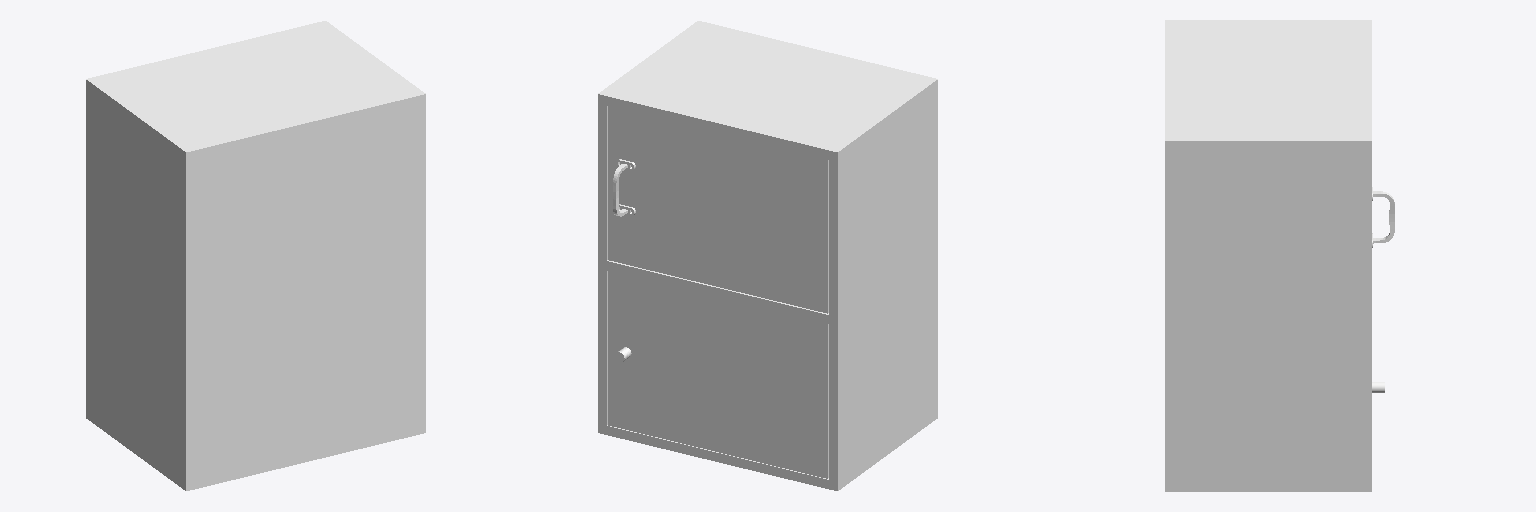
robot.urdf — Cabinet1:
<?xml version="1.0" encoding="utf-8"?>
<!-- This URDF was automatically created by SolidWorks to URDF Exporter! Originally created by [author] ([email redacted]) 
     Commit Version: 1.6.0-1-g15f4949  Build Version: 1.6.7594.29634
     For more information, please see http://wiki.ros.org/sw_urdf_exporter -->
<robot
  name="Cabinet1">
  <link
    name="base_link">
    <inertial>
      <origin
        xyz="0.19984 0.14241 0.27"
        rpy="0 0 0" />
      <mass
        value="9.7194" />
      <inertia
        ixx="0.41108"
        ixy="0.00022465"
        ixz="-1.1289E-16"
        iyy="0.57199"
        iyz="8.3269E-18"
        izz="0.30233" />
    </inertial>
    <visual>
      <origin
        xyz="0 0 0"
        rpy="0 0 0" />
      <geometry>
        <mesh
          filename="meshes/Link1.STL" />
      </geometry>
      <material
        name="">
        <color
          rgba="1 1 1 1" />
      </material>
    </visual>
    <collision>
      <origin
        xyz="0 0 0"
        rpy="0 0 0" />
      <geometry>
        <mesh
          filename="meshes/Link1.STL" />
      </geometry>
    </collision>
  </link>
  <link
    name="Link2">
    <inertial>
      <origin
        xyz="0.18409 0.0075 0.12375"
        rpy="0 0 0" />
      <mass
        value="1.3576" />
      <inertia
        ixx="0.0069558"
        ixy="-8.1315E-19"
        ixz="-6.8621E-19"
        iyy="0.022089"
        iyz="5.11E-21"
        izz="0.015185" />
    </inertial>
    <visual name = "door-1">
      <origin
        xyz="0 0 0"
        rpy="0 0 0" />
      <geometry>
        <mesh
          filename="meshes/Link2.STL" />
      </geometry>
      <material
        name="">
        <color
          rgba="1 1 1 1" />
      </material>
    </visual>
    <visual name = "handle-1">
      <origin
        xyz="0.335 0.015 0.12375"
        rpy="0 0 0" />
      <geometry>
        <mesh
          filename="meshes/Link5.STL" />
      </geometry>
      <material
        name="">
        <color
          rgba="1 1 1 1" />
      </material>
    </visual>
    <collision>
      <origin
        xyz="0 0 0"
        rpy="0 0 0" />
      <geometry>
        <mesh
          filename="meshes/Link2.STL" />
      </geometry>
    </collision>
    <collision>
      <origin
        xyz="0.335 0.015 0.12375"
        rpy="0 0 0" />
      <geometry>
        <mesh
          filename="meshes/Link5.STL" />
      </geometry>
    </collision>
  </link>
  <joint
    name="Joint1"
    type="revolute">
    <origin
      xyz="0.017889 0.27315 0.015"
      rpy="0 0 0" />
    <parent
      link="base_link" />
    <child
      link="Link2" />
    <axis
      xyz="0 0 -1" />
    <limit
      lower="-1.57"
      upper="0"
      effort="0"
      velocity="0" />
  </joint>
  <link
    name="Link3">
    <inertial>
      <origin
        xyz="0 0 0"
        rpy="0 0 0" />
      <mass
        value="0" />
      <inertia
        ixx="0"
        ixy="0"
        ixz="0"
        iyy="0"
        iyz="0"
        izz="0" />
    </inertial>
    <visual name = "door-2">
      <origin
        xyz="0 0 0"
        rpy="0 0 0" />
      <geometry>
        <mesh
          filename="meshes/Link3.STL" />
      </geometry>
      <material
        name="">
        <color
          rgba="1 1 1 1" />
      </material>
    </visual>
    <visual name = "handle-2">
      <origin
        xyz="0.335 0.015 0.12375"
        rpy="0 0 0" />
      <geometry>
        <mesh
          filename="meshes/Link4.STL" />
      </geometry>
      <material
        name="">
        <color
          rgba="1 1 1 1" />
      </material>
    </visual>
    <collision>
      <origin
        xyz="0 0 0"
        rpy="0 0 0" />
      <geometry>
        <mesh
          filename="meshes/Link3.STL" />
      </geometry>
    </collision>
    <collision>
      <origin
        xyz="0.335 0.015 0.12375"
        rpy="0 0 0" />
      <geometry>
        <mesh
          filename="meshes/Link4_1.STL" />
      </geometry>
    </collision>
    <collision>
      <origin
        xyz="0.335 0.015 0.12375"
        rpy="0 0 0" />
      <geometry>
        <mesh
          filename="meshes/Link4_2.STL" />
      </geometry>
    </collision>
    <collision>
      <origin
        xyz="0.335 0.015 0.12375"
        rpy="0 0 0" />
      <geometry>
        <mesh
          filename="meshes/Link4_3.STL" />
      </geometry>
    </collision>
    <collision>
      <origin
        xyz="0.335 0.015 0.12375"
        rpy="0 0 0" />
      <geometry>
        <mesh
          filename="meshes/Link4_4.STL" />
      </geometry>
    </collision>
    <collision>
      <origin
        xyz="0.335 0.015 0.12375"
        rpy="0 0 0" />
      <geometry>
        <mesh
          filename="meshes/Link4_5.STL" />
      </geometry>
    </collision>
    <collision>
      <origin
        xyz="0.335 0.015 0.12375"
        rpy="0 0 0" />
      <geometry>
        <mesh
          filename="meshes/Link4_6.STL" />
      </geometry>
    </collision>
    <collision>
      <origin
        xyz="0.335 0.015 0.12375"
        rpy="0 0 0" />
      <geometry>
        <mesh
          filename="meshes/Link4_7.STL" />
      </geometry>
    </collision>
    <collision>
      <origin
        xyz="0.335 0.015 0.12375"
        rpy="0 0 0" />
      <geometry>
        <mesh
          filename="meshes/Link4_8.STL" />
      </geometry>
    </collision>
  </link>
  <joint
    name="Joint2"
    type="revolute">
    <origin
      xyz="0.018766 0.2717 0.2775"
      rpy="0 0 0" />
    <parent
      link="base_link" />
    <child
      link="Link3" />
    <axis
      xyz="0 0 -1" />
    <limit
      lower="-1.57"
      upper="0"
      effort="0"
      velocity="0" />
  </joint>
</robot>

--- Render facts (derived) ---
3 views of the same robot in one strip: view 1: azimuth 30°, elevation 25°; view 2: azimuth 150°, elevation 25°; view 3: azimuth 270°, elevation 25° (orthographic).
Robot: Cabinet1 — 3 links, 2 joints (2 revolute); root link base_link; default pose: every joint at zero.
Links seen in each view (by area): view 1: base_link; view 2: base_link, Link2, Link3; view 3: base_link.
Link boxes in pixels (<box>): base_link: <box>86,21,425,490</box>; base_link: <box>598,21,937,490</box>; Link2: <box>608,271,828,478</box>; Link3: <box>608,106,828,313</box>; base_link: <box>1165,20,1371,491</box>.
Size in the robot's own frame: 0.4 by 0.3217 by 0.54 metres.
Meshes: 5 distinct files referenced, 5 mesh visuals loaded (5 binary STL).